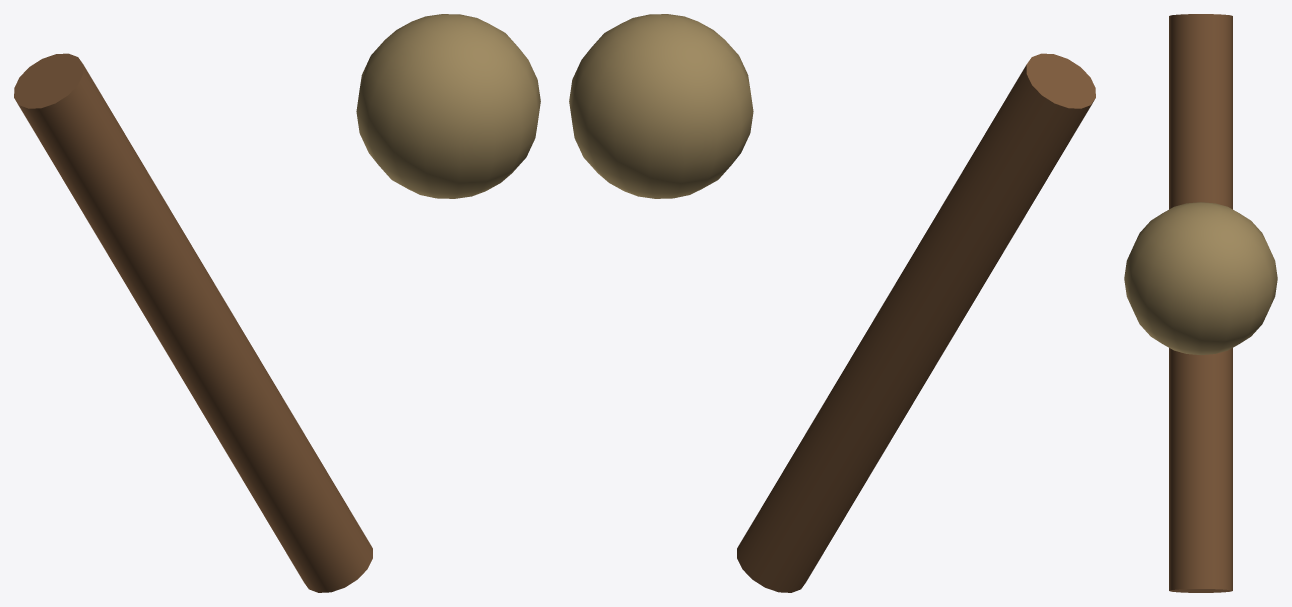
3 renders of one model, left to right at view 1: azimuth 30°, elevation 25°; view 2: azimuth 150°, elevation 25°; view 3: azimuth 270°, elevation 25°, orthographic. The views are drawn at different scales.
Visible parts, largest first — view 1: OBJ-011 — DEMO NON_VALIDE; view 2: OBJ-011 — DEMO NON_VALIDE; view 3: OBJ-011 — DEMO NON_VALIDE.
Part boxes in pixels (x1,y1,x2,y2): OBJ-011 — DEMO NON_VALIDE: [14, 14, 540, 592]; OBJ-011 — DEMO NON_VALIDE: [569, 14, 1095, 592]; OBJ-011 — DEMO NON_VALIDE: [1124, 14, 1277, 592].
Bounding box in the file's own units: 1.81 × 2 × 0.573.
